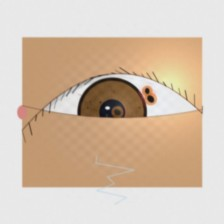foreign_body_visible: (111, 132, 145, 160)
